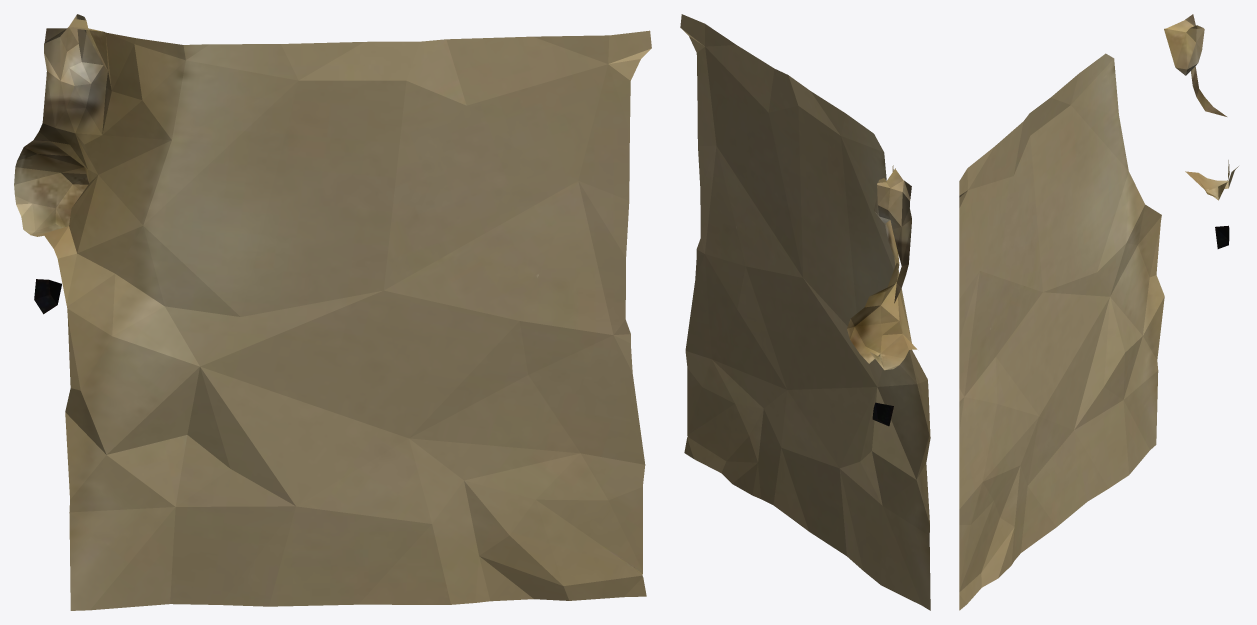
The picture shows the model from 3 angles, left to right: view 1: azimuth 30°, elevation 25°; view 2: azimuth 150°, elevation 25°; view 3: azimuth 270°, elevation 25°; orthographic projection. The views are drawn at different scales.
Size of the model in its own units: 0.7008 by 0.8374 by 0.4995.
3 materials, 3 textured.
